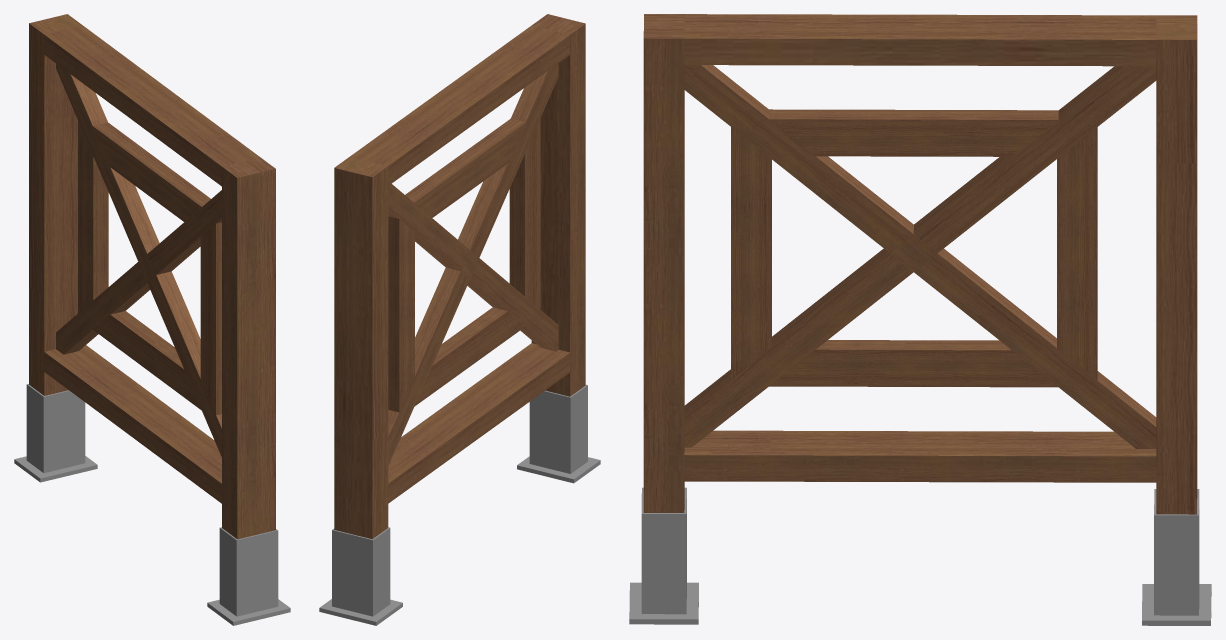
File: BarrireExtBois02.fbx
The picture shows the model from 3 angles, left to right: view 1: azimuth 30°, elevation 25°; view 2: azimuth 150°, elevation 25°; view 3: azimuth 270°, elevation 25°; orthographic projection. The views are drawn at different scales.
Parts seen in each view (by area): view 1: PetiteBarriere; view 2: PetiteBarriere; view 3: PetiteBarriere.
Boxes of the visible parts, x1=… form: PetiteBarriere: x1=14, y1=14, x2=290, y2=625; PetiteBarriere: x1=319, y1=14, x2=600, y2=625; PetiteBarriere: x1=629, y1=14, x2=1211, y2=625.
Bounding box in the file's own units: 15.53 × 110 × 100.
